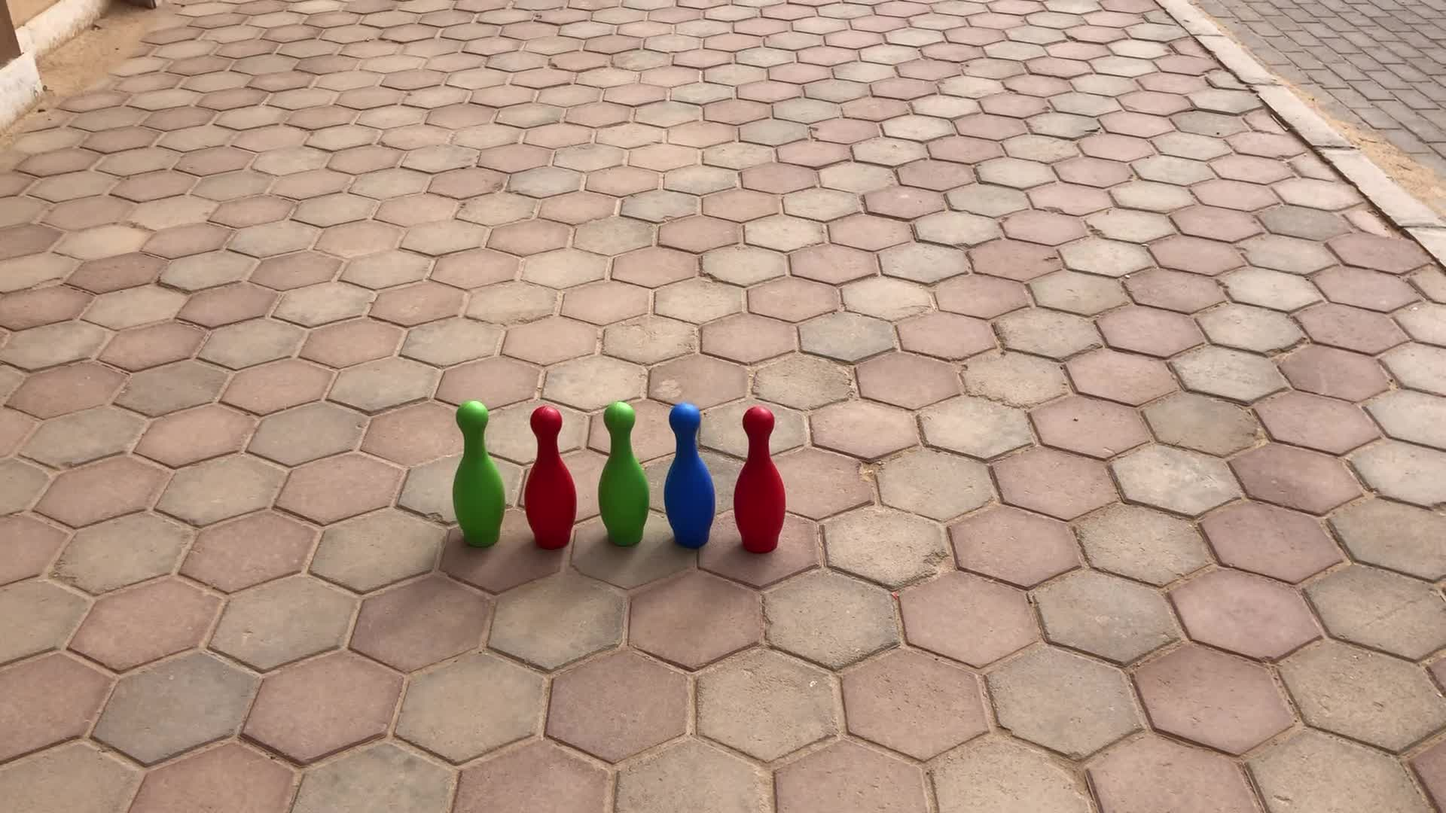bowling-pin: (453, 400, 506, 549), (524, 405, 576, 550), (664, 403, 715, 550), (735, 406, 786, 553), (599, 402, 649, 547)
